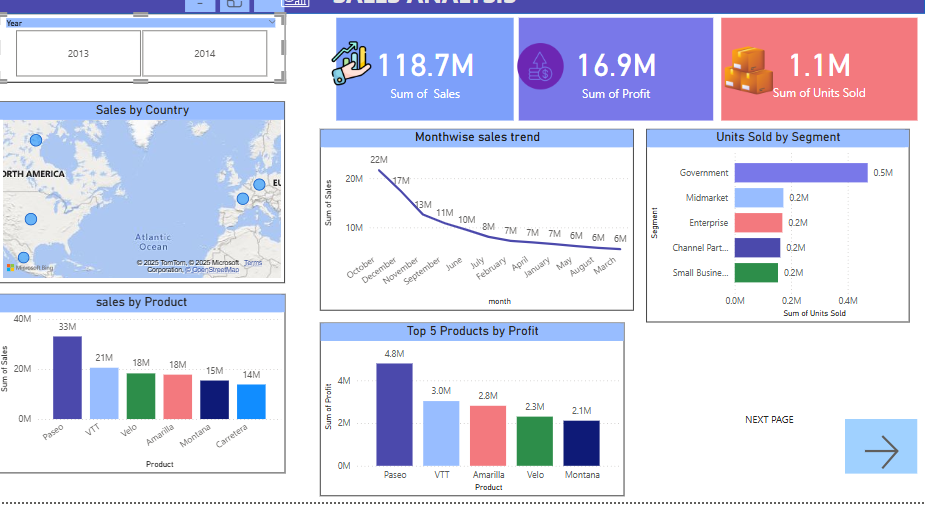

This screenshot's page, from the dashboard's own definition file:
{"tool":"powerbi","page":{"name":"SALES ","canvas":[1280,720],"ordinal":0},"visuals":[{"type":"image","box":[160.5,0,70,78.2],"z":0},{"type":"shape","box":[0,0.8,1280.3,54],"z":0,"group":"g1"},{"type":"textbox","box":[0,0,1196.5,78.2],"z":1000,"group":"g1"},{"type":"card","fields":{"Values":["Sum(financials. Sales)"]},"box":[477.5,60.4,241.5,140],"z":1000},{"type":"card","fields":{"Values":["Sum(financials.Profit)"]},"box":[727.3,60.4,264.8,140],"z":2000},{"type":"card","fields":{"Values":["Sum(financials.Units Sold)"]},"box":[1003.1,60.4,267.6,140],"z":3000},{"type":"group","id":"g1","title":"Group 1","box":[0,0,1280.3,78.2],"z":4000},{"type":"map","title":"Sales by Country","fields":{"Category":["financials.Country"],"Size":["Sum(financials. Sales)"]},"box":[19.2,174.3,389.7,247],"z":5000},{"type":"columnChart","title":"sales by Product","fields":{"Category":["financials.Product"],"Y":["Sum(financials. Sales)"]},"box":[15.1,436.4,393.8,244.3],"z":6000},{"type":"clusteredBarChart","title":"Units Sold by Segment","fields":{"Category":["financials.Segment"],"Y":["Sum(financials.Units Sold)"]},"box":[900.2,211.3,358.1,263.5],"z":7000},{"type":"lineChart","title":"Monthwise sales trend ","fields":{"Category":["financials.Month Name"],"Y":["Sum(financials. Sales)"]},"box":[456.9,211.3,426.8,247],"z":8000},{"type":"columnChart","title":"Top 5 Products by Profit","fields":{"Y":["Sum(financials.Profit)"],"Category":["financials.Product"]},"box":[456.9,474.8,414.4,236],"z":9000},{"type":"slicer","fields":{"Values":["financials.Year"]},"box":[15.1,54.9,393.8,93.3],"z":10000},{"type":"image","box":[367.8,1.4,109.8,53.5],"z":11000},{"type":"image","box":[477.5,86.4,86.4,70],"z":12000},{"type":"image","box":[727.3,78.2,72.7,78.2],"z":13001},{"type":"image","box":[1003.1,93.3,75.5,75.5],"z":13002},{"type":"actionButton","box":[1171.9,606.5,98.8,74.1],"z":13003},{"type":"textbox","box":[1029.8,592.3,98.7,28.9],"z":13004}]}

Visuals, with their boxes on the page's 1280x720 design canvas (x1, y1, x2, y2). These are canvas units, not pixel positions in the 925x505 screenshot, which may show the page scaled, cropped or inside an application window:
image: {"left": 160, "top": 0, "right": 230, "bottom": 78}
shape: {"left": 0, "top": 1, "right": 1280, "bottom": 55}
textbox: {"left": 0, "top": 0, "right": 1196, "bottom": 78}
card - Sum(financials. Sales): {"left": 478, "top": 60, "right": 719, "bottom": 200}
card - Sum(financials.Profit): {"left": 727, "top": 60, "right": 992, "bottom": 200}
card - Sum(financials.Units Sold): {"left": 1003, "top": 60, "right": 1271, "bottom": 200}
"Group 1" group: {"left": 0, "top": 0, "right": 1280, "bottom": 78}
"Sales by Country" map: {"left": 19, "top": 174, "right": 409, "bottom": 421}
"sales by Product" columnChart: {"left": 15, "top": 436, "right": 409, "bottom": 681}
"Units Sold by Segment" clusteredBarChart: {"left": 900, "top": 211, "right": 1258, "bottom": 475}
"Monthwise sales trend " lineChart: {"left": 457, "top": 211, "right": 884, "bottom": 458}
"Top 5 Products by Profit" columnChart: {"left": 457, "top": 475, "right": 871, "bottom": 711}
slicer - financials.Year: {"left": 15, "top": 55, "right": 409, "bottom": 148}
image: {"left": 368, "top": 1, "right": 478, "bottom": 55}
image: {"left": 478, "top": 86, "right": 564, "bottom": 156}
image: {"left": 727, "top": 78, "right": 800, "bottom": 156}
image: {"left": 1003, "top": 93, "right": 1079, "bottom": 169}
actionButton: {"left": 1172, "top": 606, "right": 1271, "bottom": 681}
textbox: {"left": 1030, "top": 592, "right": 1128, "bottom": 621}
